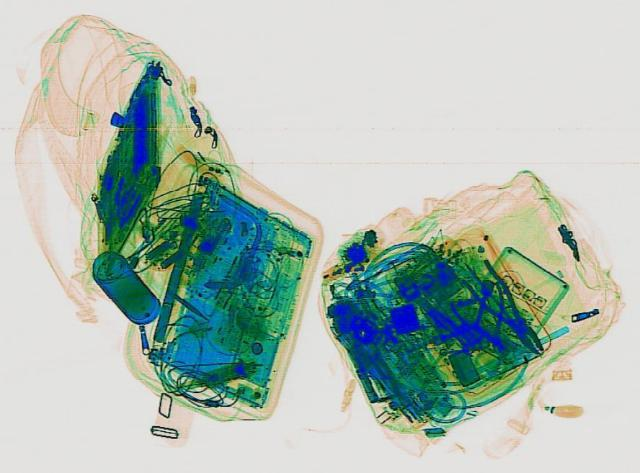Pliers: (451, 256, 562, 361)
